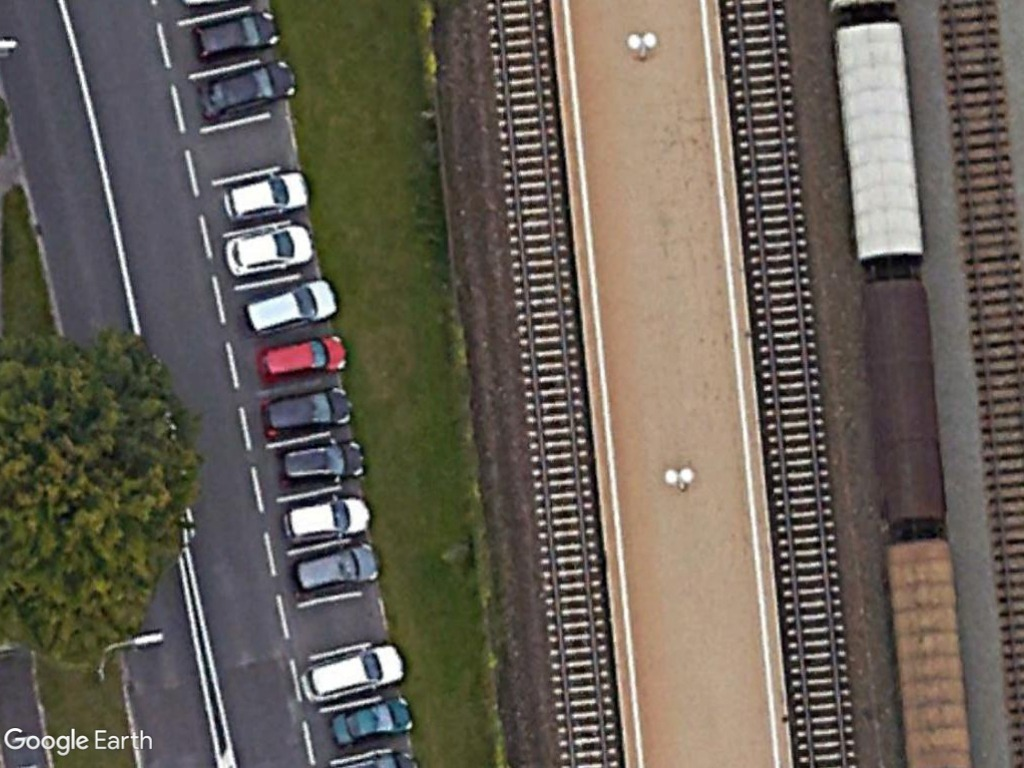car: (295, 641, 411, 705), (191, 53, 300, 121), (249, 330, 353, 392), (240, 274, 339, 339), (223, 217, 316, 282), (286, 539, 387, 598), (257, 384, 358, 440), (276, 492, 376, 548), (325, 693, 422, 750), (219, 167, 315, 222), (276, 434, 371, 489), (189, 8, 283, 63)
